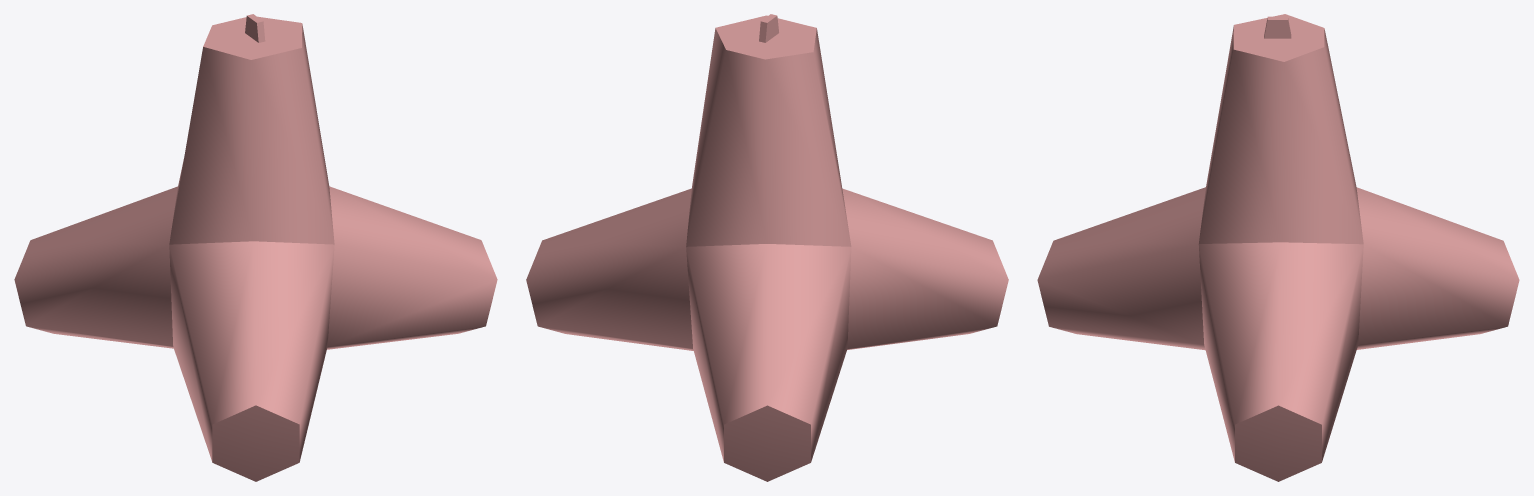
The model's file is Concrete_Tetrapod_COL.fbx.
3 renders of one model, left to right at view 1: azimuth 30°, elevation 25°; view 2: azimuth 150°, elevation 25°; view 3: azimuth 270°, elevation 25°, orthographic.
Parts seen in each view (by area): view 1: Concrete_Tetrapod_COL; view 2: Concrete_Tetrapod_COL; view 3: Concrete_Tetrapod_COL.
Part boxes in pixels (x1,y1,x2,y2): Concrete_Tetrapod_COL: (14, 14, 497, 481); Concrete_Tetrapod_COL: (526, 14, 1008, 481); Concrete_Tetrapod_COL: (1037, 14, 1519, 481).
Bounding box in the file's own units: 311 × 295 × 354.
